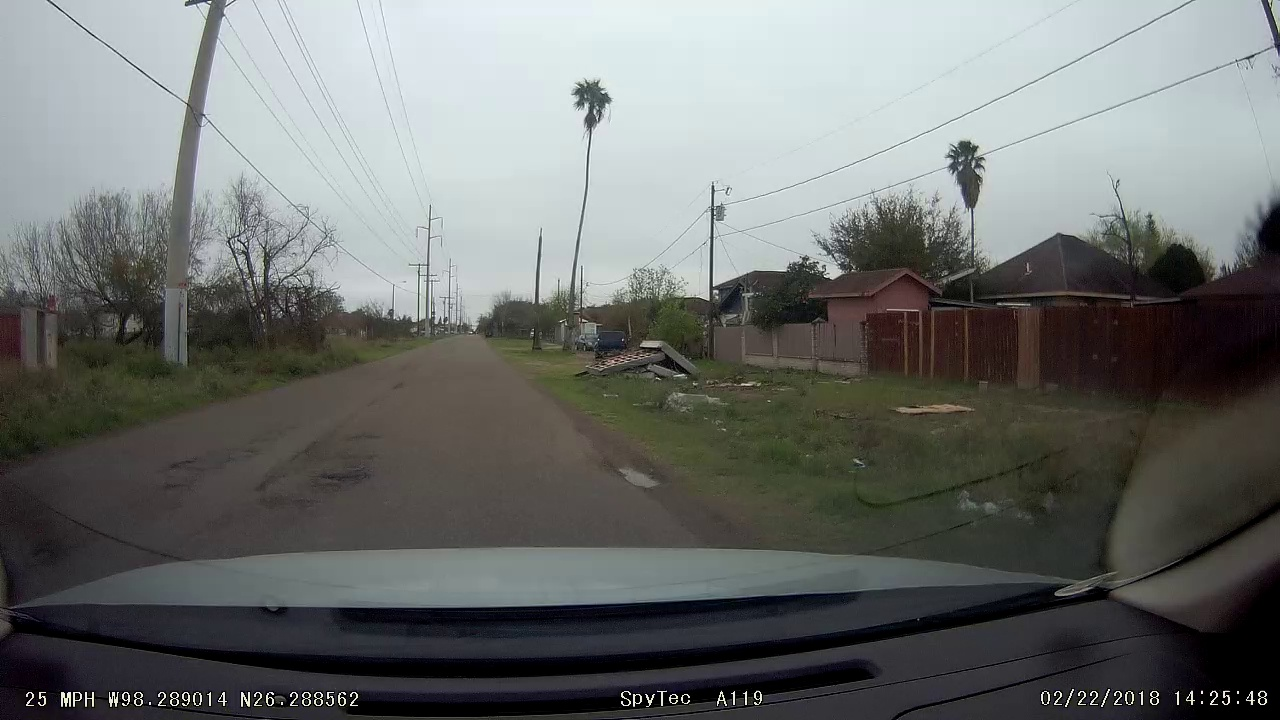pothole: (306, 427, 381, 518), (610, 461, 660, 501)
